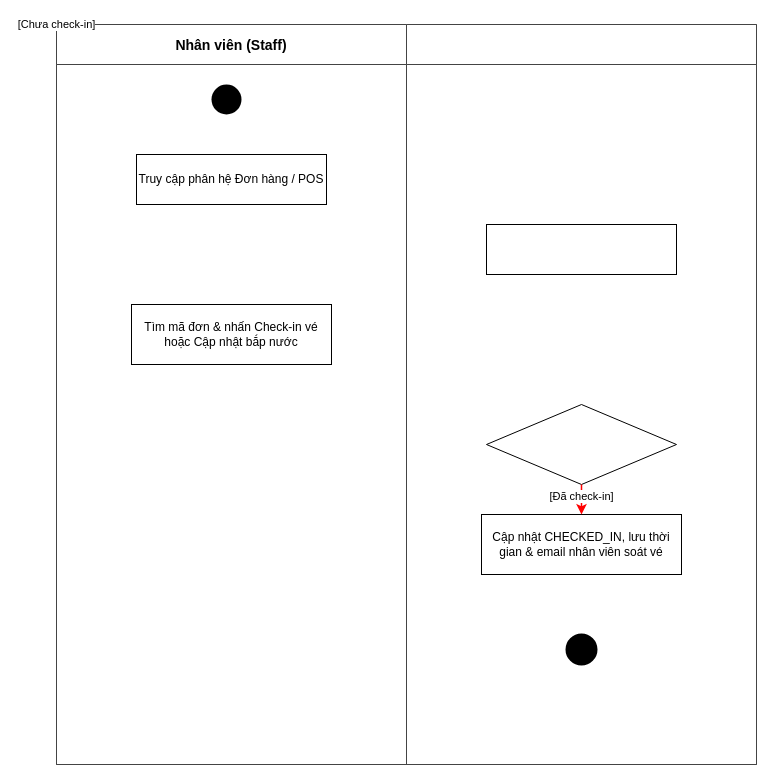
This 774x783 diagram has some shape labels left out. Here are the shapes that lost their labels. From the top down, the box of each, then its label:
(486, 224, 676, 274): Hiển thị danh sách đơn hàng theo thời gian thực
(406, 24, 756, 764): Hệ thống (Web & Server)
(486, 404, 676, 484): Kiểm tra trạng thái vé hiện tại
